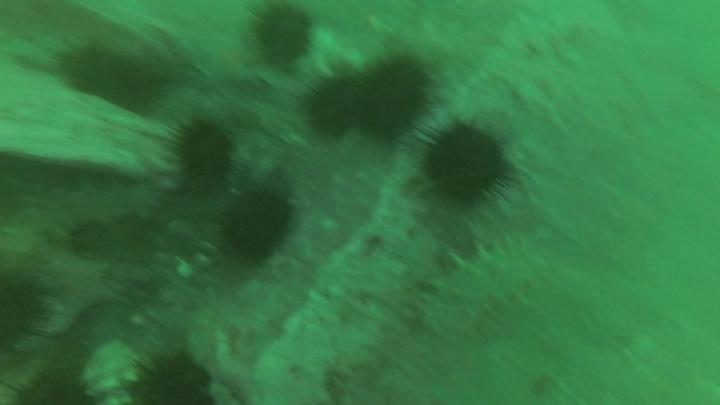echinus: (426, 128, 505, 198), (65, 51, 153, 112), (357, 59, 429, 128), (225, 194, 291, 258), (306, 77, 360, 137), (137, 360, 208, 405), (1, 279, 45, 351), (178, 125, 229, 186), (258, 8, 311, 62), (16, 371, 73, 405)
holothurian: (421, 236, 537, 333)
